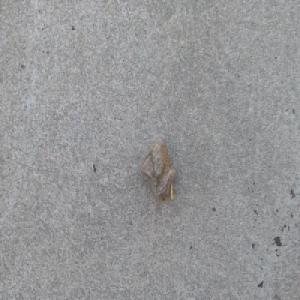Rock: (136, 134, 176, 203)
